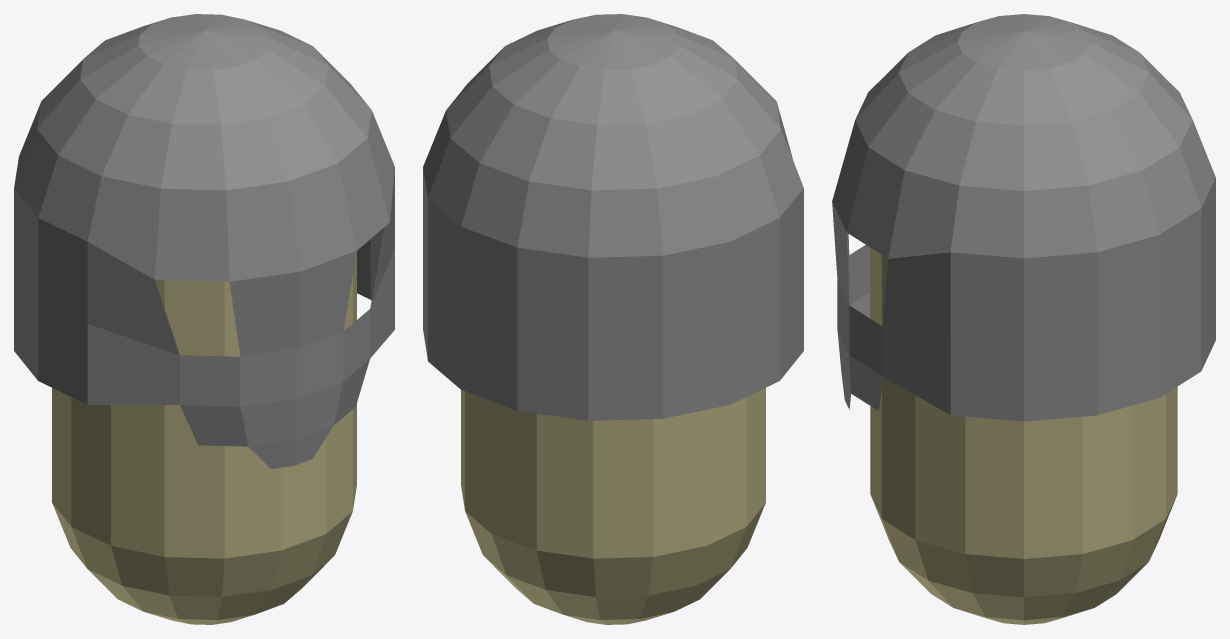
File: player.fbx
The picture shows the model from 3 angles, left to right: view 1: azimuth 30°, elevation 25°; view 2: azimuth 150°, elevation 25°; view 3: azimuth 270°, elevation 25°; orthographic projection.
Parts seen in each view (by area): view 1: Sphere; view 2: Sphere; view 3: Sphere.
Boxes of the visible parts, x1,y1,x2,y2 form: Sphere: (14,14,394,624); Sphere: (423,14,803,624); Sphere: (832,14,1215,624).
Bounding box in the file's own units: 246 × 410 × 246.
